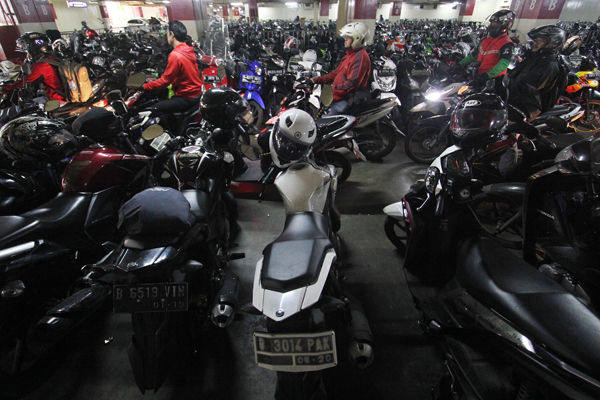plate: (258, 330, 331, 370), (113, 281, 187, 313)
